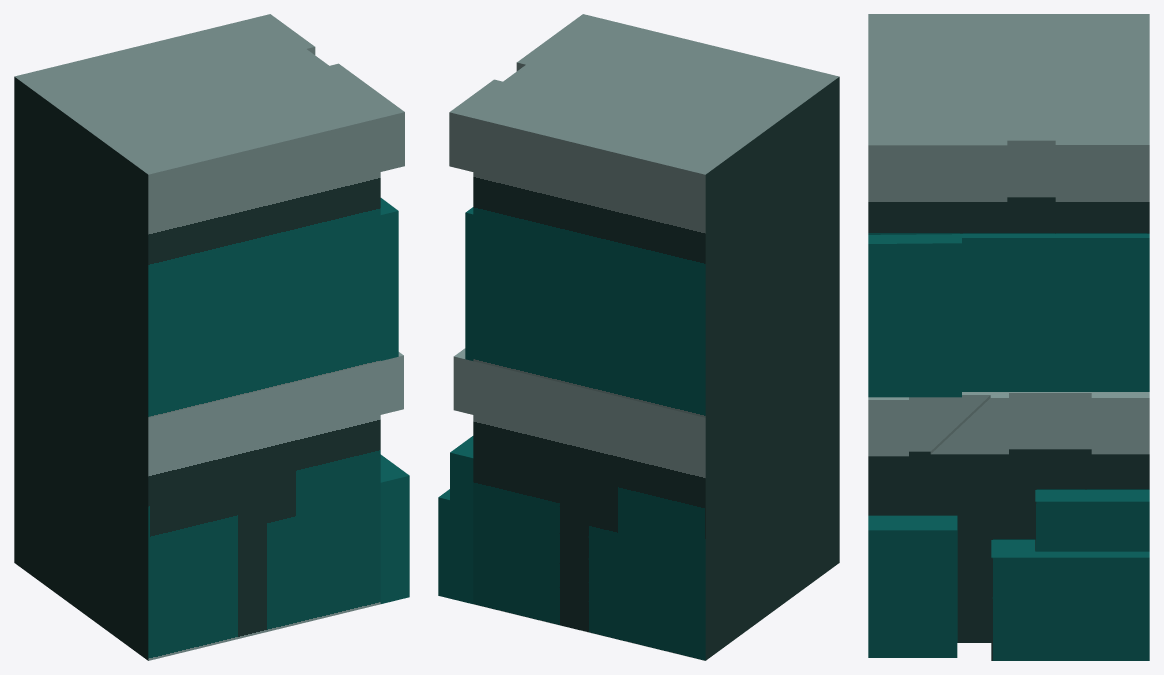
The model's file is WallTest.obj.
3 renders of one model, left to right at view 1: azimuth 30°, elevation 25°; view 2: azimuth 150°, elevation 25°; view 3: azimuth 270°, elevation 25°, orthographic. The views are drawn at different scales.
Visible parts, largest first — view 1: Cube_Cube.001; view 2: Cube_Cube.001; view 3: Cube_Cube.001.
Part boxes in pixels (left/top/right/bottom): Cube_Cube.001: left=14, top=14, right=409, bottom=660; Cube_Cube.001: left=438, top=14, right=839, bottom=660; Cube_Cube.001: left=868, top=14, right=1149, bottom=660.
Size of the model in its own units: 2.3 by 4 by 2.
